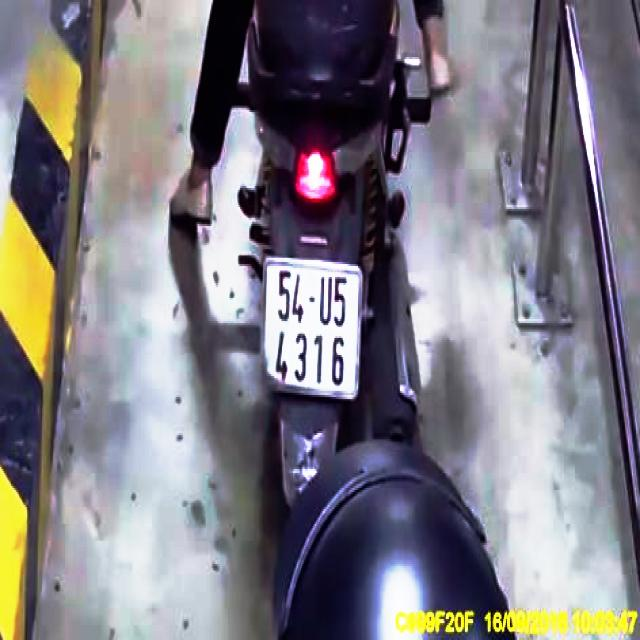license_plate: (264, 261, 365, 397)
